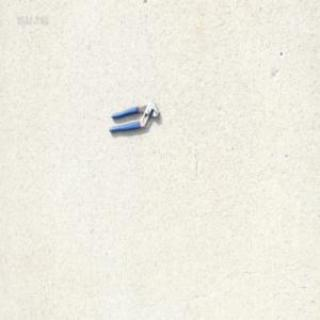Pliertrack_idkeyframe: (107, 100, 160, 135)
